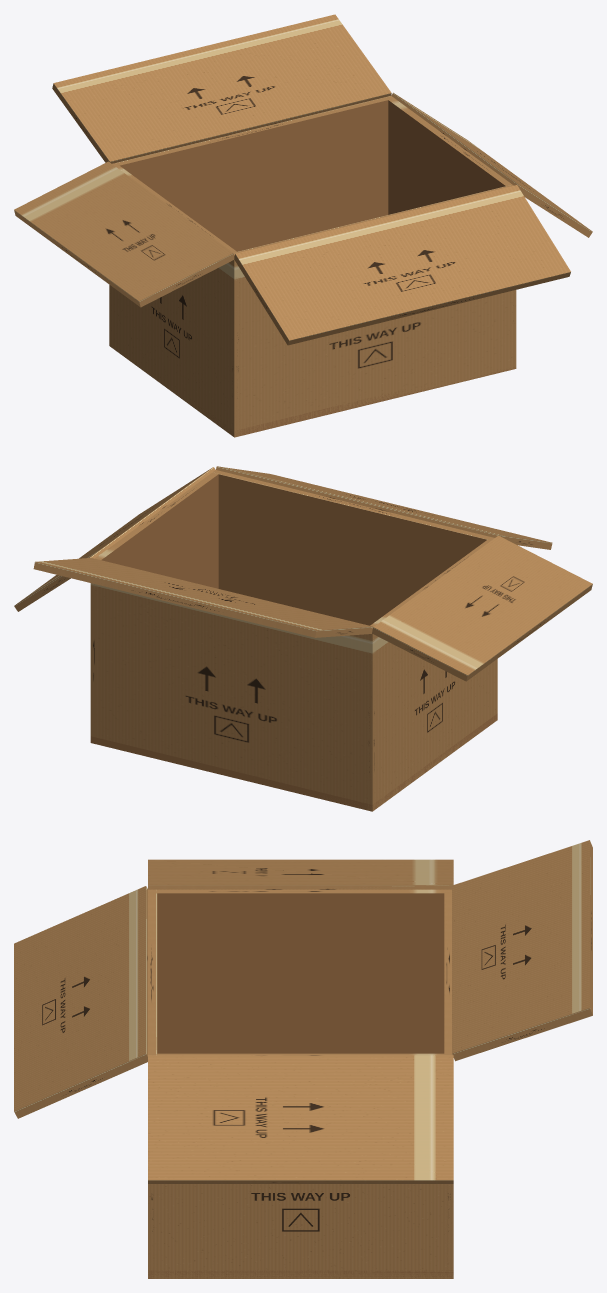
The picture shows the model from 3 angles, top to bottom: view 1: azimuth 30°, elevation 25°; view 2: azimuth 150°, elevation 25°; view 3: azimuth 270°, elevation 25°; orthographic projection. The views are drawn at different scales.
Visible parts, largest first — view 1: flap-front, flap-back, box-front, box-back, flap-left, box-left, box-right, flap-right, box-floor; view 2: box-back, box-front, flap-left, box-left, box-right, flap-back, flap-front, box-floor, flap-right; view 3: box-left, flap-right, box-right, flap-back, flap-front, flap-left, box-front, box-floor, box-back.
Boxes of the visible parts, x1,y1,x2,y2 form: flap-front: (234,185,570,345); flap-back: (52,14,391,163); box-front: (231,184,516,436); box-back: (113,96,394,251); flap-left: (14,161,234,307); box-left: (109,163,240,437); box-right: (385,97,515,369); flap-right: (391,92,592,237); box-floor: (203,367,515,436); box-back: (91,584,376,811); box-front: (212,470,494,625); flap-left: (372,535,592,681); box-left: (366,539,497,811); box-right: (90,470,220,737); flap-back: (33,558,372,637); flap-front: (216,466,552,549); box-floor: (90,713,497,811); flap-right: (14,467,215,611); box-left: (148,889,451,1053); flap-right: (148,1055,453,1183); box-right: (148,1053,453,1278); flap-back: (452,840,592,1061); flap-front: (14,886,147,1118); flap-left: (148,859,453,889); box-front: (148,890,157,1277); box-floor: (148,1270,453,1278); box-back: (444,890,453,1278).
Bounding box in the file's own units: 0.2094 × 0.0979 × 0.1895.
2 materials, 1 textured.
